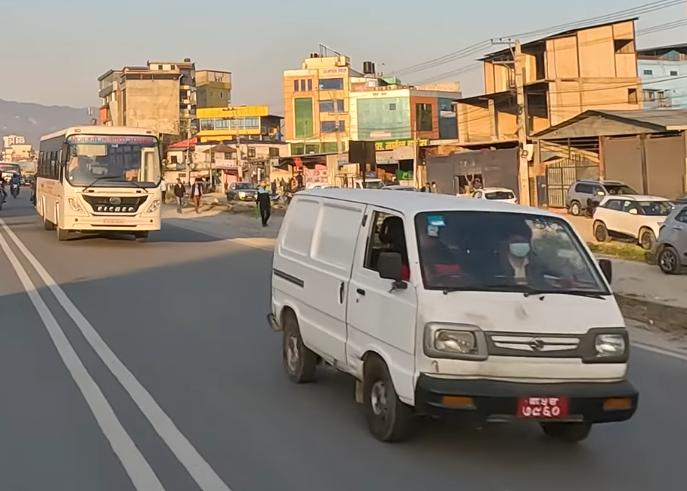bus: (33, 124, 166, 247)
car: (589, 192, 678, 253), (564, 177, 637, 218), (653, 200, 687, 273)
van: (264, 170, 636, 458)
